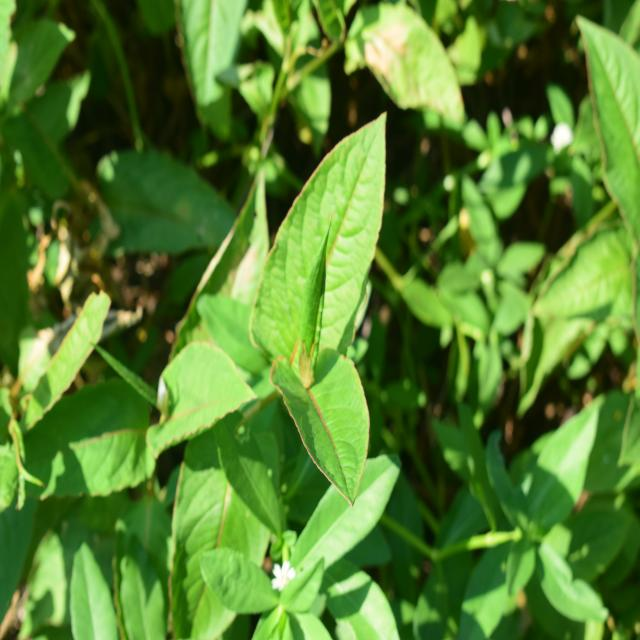Chinese_knotweed: (234, 99, 388, 500)
